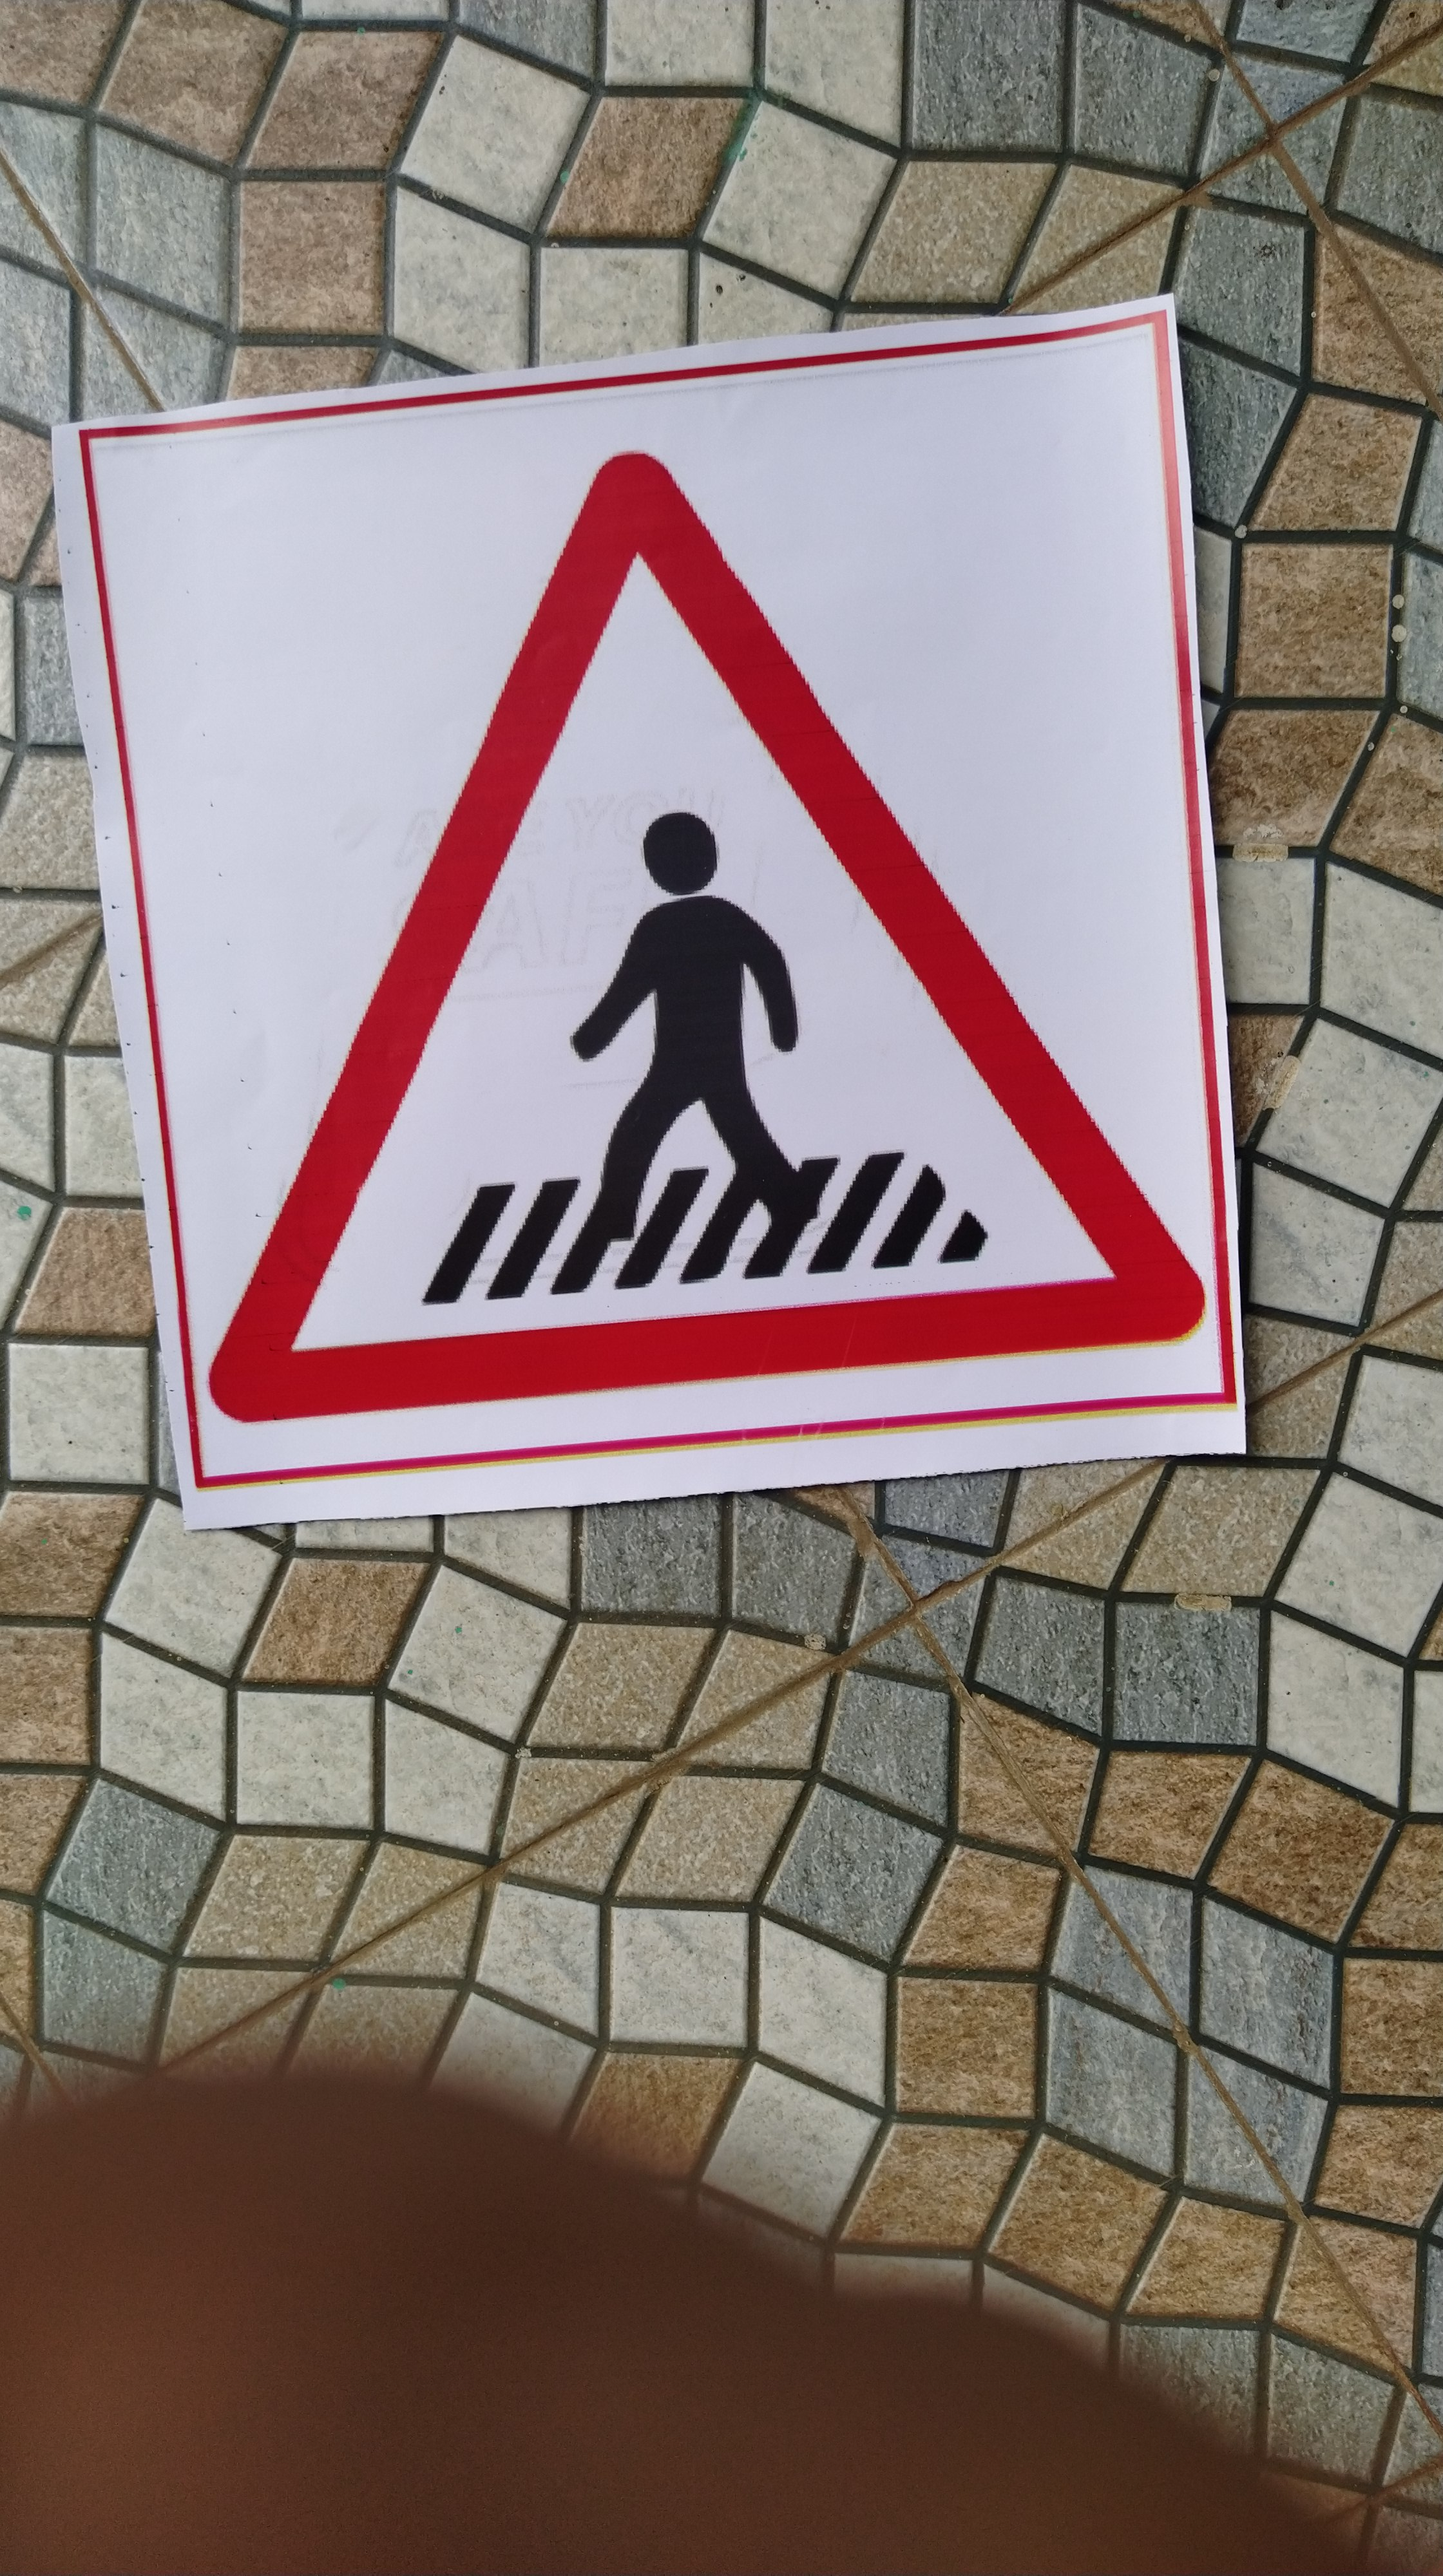pedestrain crossing: (81, 432, 1200, 1518)
